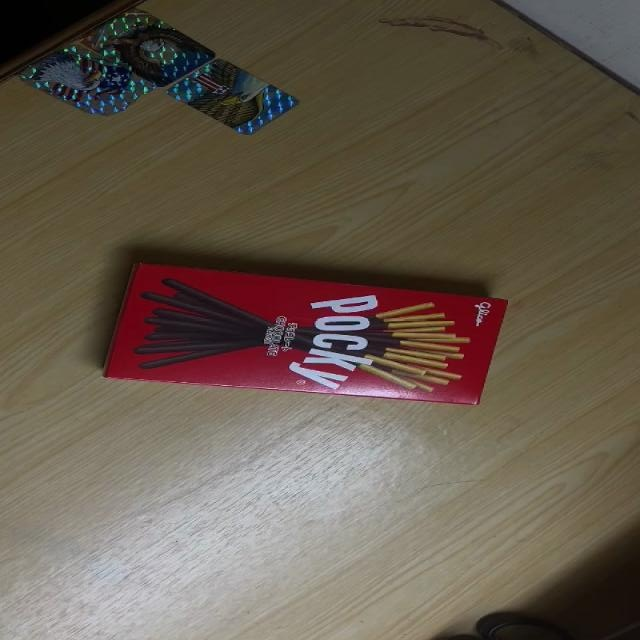Pocky: (104, 262, 506, 404)
